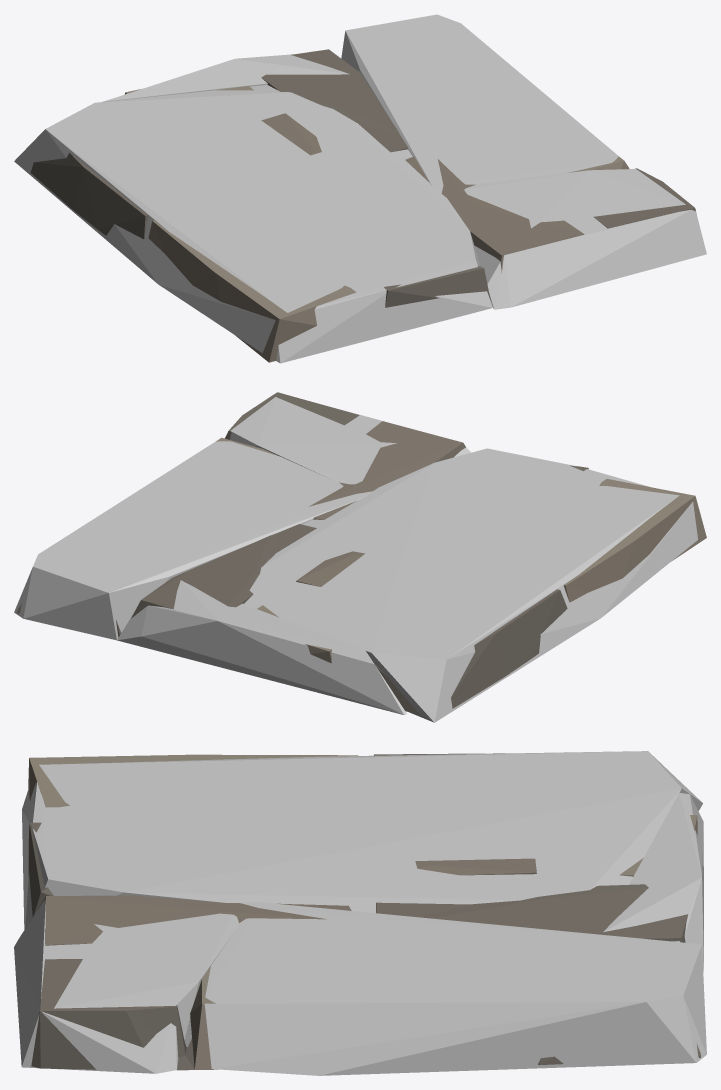
The model's file is SM_Env_Footpath_02.fbx.
The picture shows the model from 3 angles, top to bottom: view 1: azimuth 30°, elevation 25°; view 2: azimuth 150°, elevation 25°; view 3: azimuth 270°, elevation 25°; orthographic projection. The views are drawn at different scales.
Parts seen in each view (by area): view 1: SM_Env_Footpath_02_ConvexHulls, SM_Env_Footpath_02; view 2: SM_Env_Footpath_02_ConvexHulls, SM_Env_Footpath_02; view 3: SM_Env_Footpath_02_ConvexHulls, SM_Env_Footpath_02.
Boxes of the visible parts, bbox=[...] form: SM_Env_Footpath_02_ConvexHulls: bbox=[14, 14, 706, 363]; SM_Env_Footpath_02: bbox=[30, 49, 695, 362]; SM_Env_Footpath_02_ConvexHulls: bbox=[14, 397, 697, 722]; SM_Env_Footpath_02: bbox=[17, 392, 706, 714]; SM_Env_Footpath_02_ConvexHulls: bbox=[14, 751, 706, 1075]; SM_Env_Footpath_02: bbox=[28, 753, 700, 1070].
Size of the model in its own units: 257 by 269 by 31.02.
Materials: 2 (1 with a texture image).
